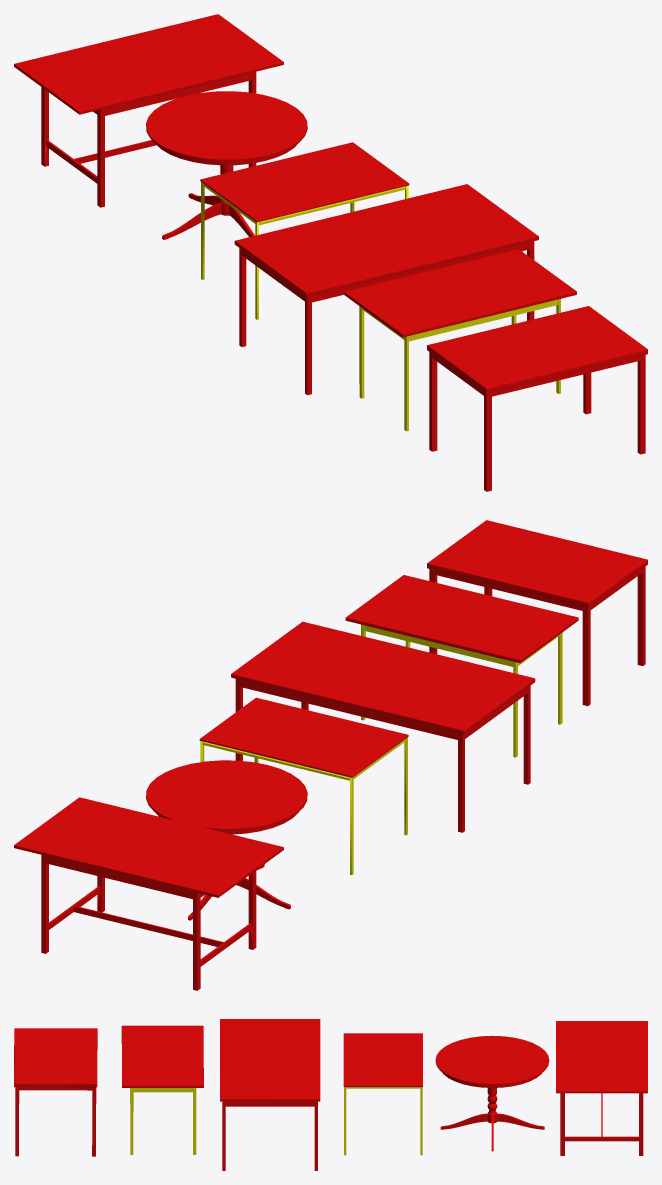
Rendered from thorkea_dining_tables_grp.fbx.
3 views of the same model, one above another, from view 1: azimuth 30°, elevation 25°; view 2: azimuth 150°, elevation 25°; view 3: azimuth 270°, elevation 25° (orthographic). The views are drawn at different scales.
Parts seen in each view (by area): view 1: thorkea_dining_table_extendable, thorkea_dining_table_norden_gateleg, thorkea_dining_table_jokkmokk, thorkea_dining_table_antas, thorkea_dining_table_liatorp, thorkea_dining_table_mella; view 2: thorkea_dining_table_extendable, thorkea_dining_table_norden_gateleg, thorkea_dining_table_jokkmokk, thorkea_dining_table_antas, thorkea_dining_table_mella, thorkea_dining_table_liatorp; view 3: thorkea_dining_table_extendable, thorkea_dining_table_norden_gateleg, thorkea_dining_table_antas, thorkea_dining_table_jokkmokk, thorkea_dining_table_liatorp, thorkea_dining_table_mella.
Boxes of the visible parts, left/top/right/bottom form: thorkea_dining_table_extendable: left=234, top=184, right=538, bottom=395; thorkea_dining_table_norden_gateleg: left=14, top=14, right=283, bottom=207; thorkea_dining_table_jokkmokk: left=427, top=306, right=647, bottom=491; thorkea_dining_table_antas: left=344, top=249, right=576, bottom=431; thorkea_dining_table_liatorp: left=146, top=91, right=307, bottom=239; thorkea_dining_table_mella: left=200, top=142, right=409, bottom=319; thorkea_dining_table_extendable: left=231, top=621, right=535, bottom=832; thorkea_dining_table_norden_gateleg: left=14, top=797, right=283, bottom=990; thorkea_dining_table_jokkmokk: left=427, top=520, right=647, bottom=705; thorkea_dining_table_antas: left=345, top=575, right=578, bottom=757; thorkea_dining_table_mella: left=199, top=697, right=408, bottom=874; thorkea_dining_table_liatorp: left=146, top=760, right=307, bottom=920; thorkea_dining_table_extendable: left=220, top=1019, right=320, bottom=1170; thorkea_dining_table_norden_gateleg: left=556, top=1021, right=647, bottom=1155; thorkea_dining_table_antas: left=121, top=1025, right=203, bottom=1154; thorkea_dining_table_jokkmokk: left=14, top=1028, right=97, bottom=1156; thorkea_dining_table_liatorp: left=435, top=1035, right=549, bottom=1151; thorkea_dining_table_mella: left=343, top=1033, right=422, bottom=1155.
Bounding box in the file's own units: 173 × 76.39 × 580.
